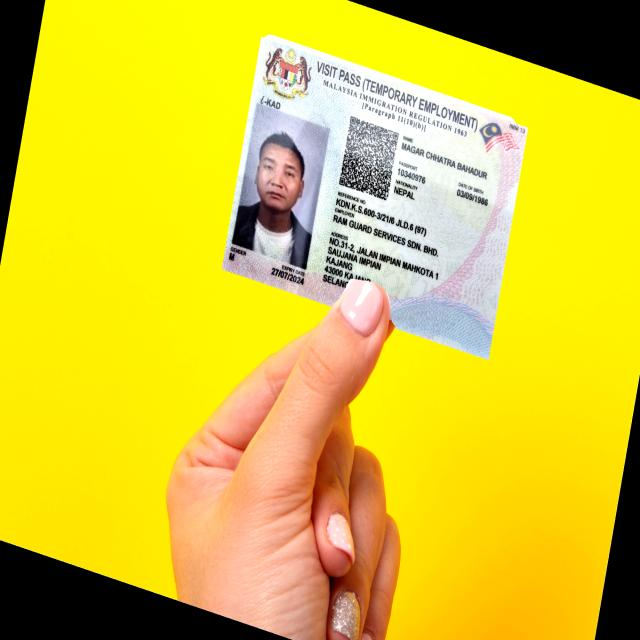ikad-temp: (220, 33, 528, 360)
